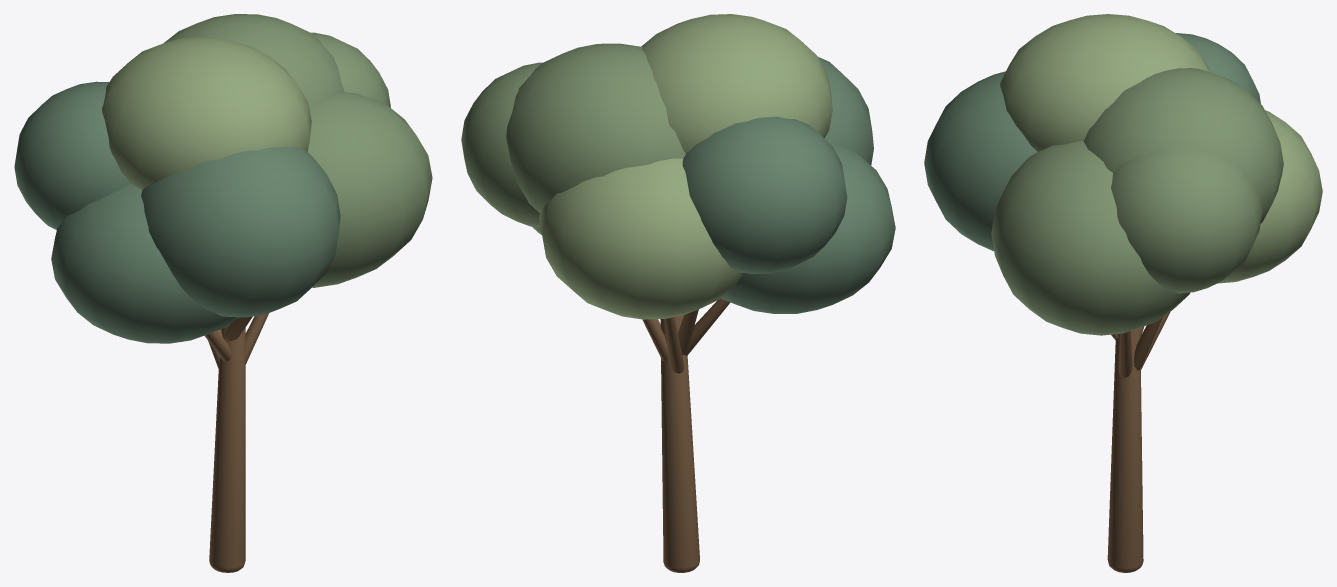
File: KKTC_CarobTree.fbx
3 views of the same model, side by side, from view 1: azimuth 30°, elevation 25°; view 2: azimuth 150°, elevation 25°; view 3: azimuth 270°, elevation 25° (orthographic). The views are drawn at different scales.
Visible parts, largest first — view 1: TreeVolume_YY_oliveDark.001, TreeVolume_YY_oliveMid.001, TreeVolume_YY_oliveLight.001, TreeVolume_YY_oliveBark.001; view 2: TreeVolume_YY_oliveLight.001, TreeVolume_YY_oliveDark.001, TreeVolume_YY_oliveMid.001, TreeVolume_YY_oliveBark.001; view 3: TreeVolume_YY_oliveMid.001, TreeVolume_YY_oliveLight.001, TreeVolume_YY_oliveDark.001, TreeVolume_YY_oliveBark.001.
Part boxes in pixels (x1=…): TreeVolume_YY_oliveDark.001: x1=14, y1=81, x2=340, y2=343; TreeVolume_YY_oliveMid.001: x1=164, y1=14, x2=432, y2=287; TreeVolume_YY_oliveLight.001: x1=102, y1=36, x2=311, y2=189; TreeVolume_YY_oliveBark.001: x1=204, y1=313, x2=268, y2=572; TreeVolume_YY_oliveLight.001: x1=539, y1=14, x2=832, y2=319; TreeVolume_YY_oliveDark.001: x1=682, y1=56, x2=895, y2=313; TreeVolume_YY_oliveMid.001: x1=461, y1=43, x2=685, y2=234; TreeVolume_YY_oliveBark.001: x1=642, y1=298, x2=730, y2=572; TreeVolume_YY_oliveMid.001: x1=991, y1=68, x2=1283, y2=335; TreeVolume_YY_oliveLight.001: x1=1000, y1=14, x2=1322, y2=283; TreeVolume_YY_oliveDark.001: x1=924, y1=33, x2=1260, y2=251; TreeVolume_YY_oliveBark.001: x1=1107, y1=311, x2=1170, y2=572.
Bounding box in the file's own units: 327 × 463 × 318.
